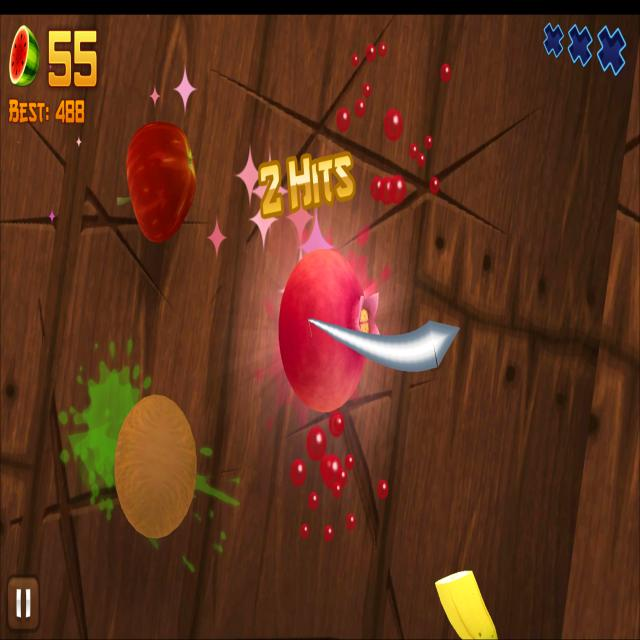fruit: (278, 248, 374, 413), (115, 393, 197, 539), (126, 121, 198, 243)
